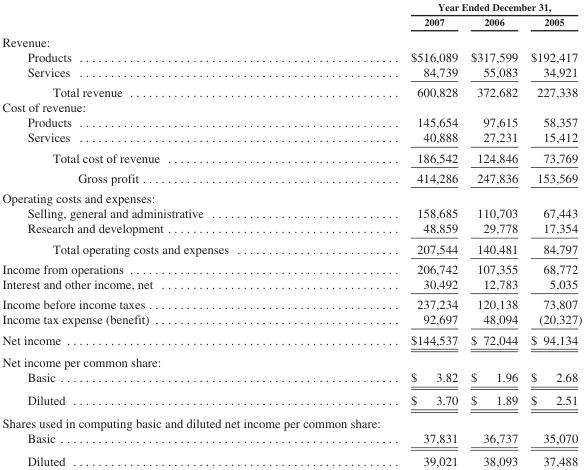table: (1, 0, 581, 467)
table column: (1, 0, 319, 467), (319, 0, 463, 467), (463, 0, 523, 467), (523, 0, 581, 467)
table column header: (1, 0, 581, 30)
table projected row header: (1, 350, 581, 369), (1, 411, 581, 430), (1, 30, 581, 48), (1, 187, 581, 205), (1, 99, 581, 114)
table row: (1, 388, 581, 411), (1, 329, 581, 350), (1, 147, 581, 167), (1, 167, 581, 187), (1, 238, 581, 258), (1, 350, 581, 369), (1, 369, 581, 388), (1, 411, 581, 430), (1, 430, 581, 449), (1, 30, 581, 48), (1, 63, 581, 81), (1, 81, 581, 99), (1, 129, 581, 147), (1, 187, 581, 205), (1, 220, 581, 238), (1, 258, 581, 276), (1, 293, 581, 311), (1, 311, 581, 329), (1, 449, 581, 467), (1, 276, 581, 293), (1, 14, 581, 30), (1, 48, 581, 63), (1, 99, 581, 114), (1, 114, 581, 129), (1, 205, 581, 220), (1, 0, 581, 14)
table spanning cell: (319, 0, 581, 14)
